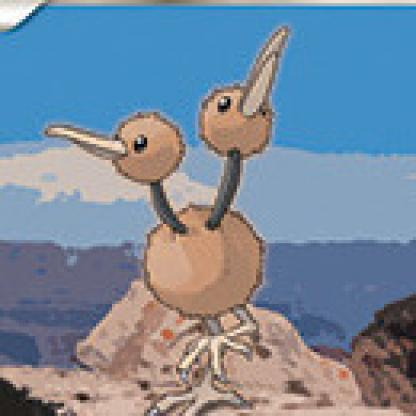Doduo: (30, 14, 318, 414)
